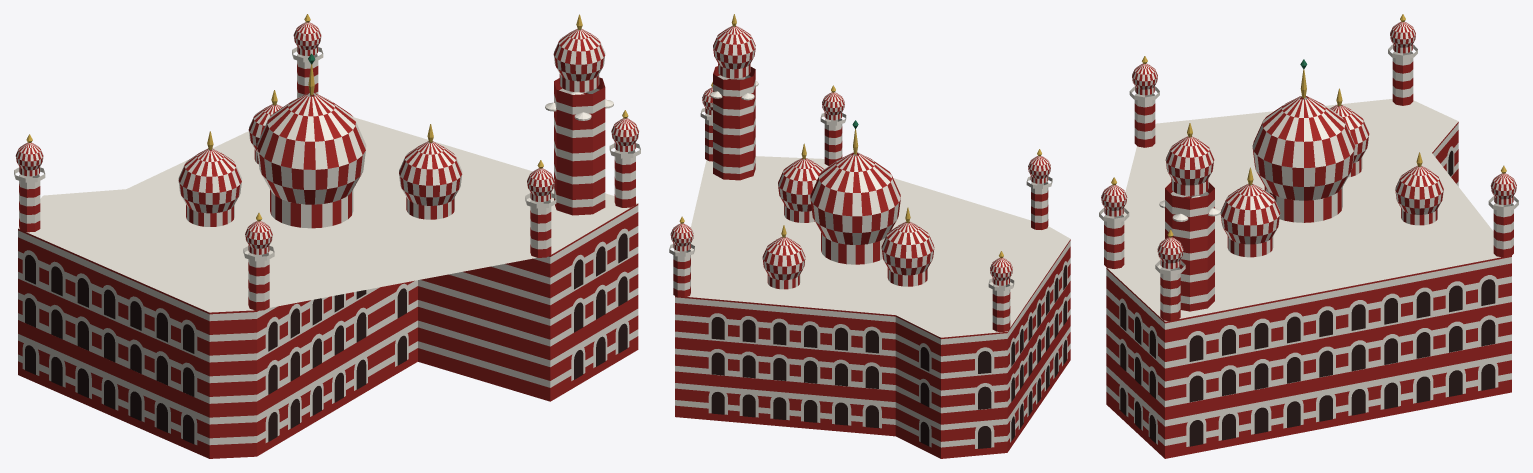
File: red-mosque.glb
3 views of the same model, side by side, from view 1: azimuth 30°, elevation 25°; view 2: azimuth 150°, elevation 25°; view 3: azimuth 270°, elevation 25° (orthographic). The views are drawn at different scales.
Size of the model in its own units: 60.71 by 39.06 by 47.18.
